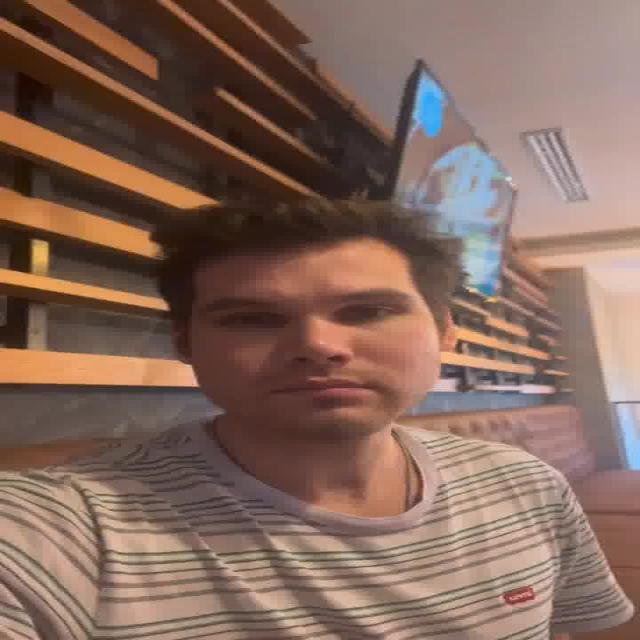earlobe: (172, 348, 194, 364), (437, 336, 456, 352)
eye: (339, 307, 396, 321), (220, 314, 284, 326)
nose: (286, 359, 359, 379)
wholeear: (432, 302, 460, 352), (172, 323, 193, 364)
